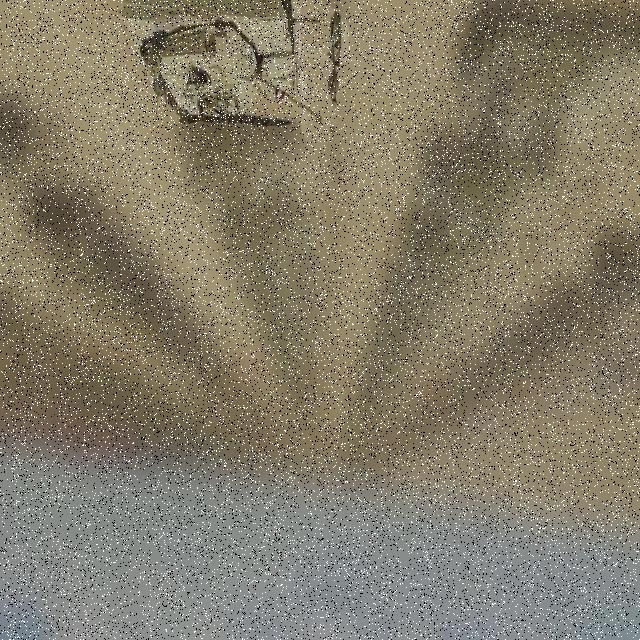MIL_MBT: (117, 1, 328, 123)
